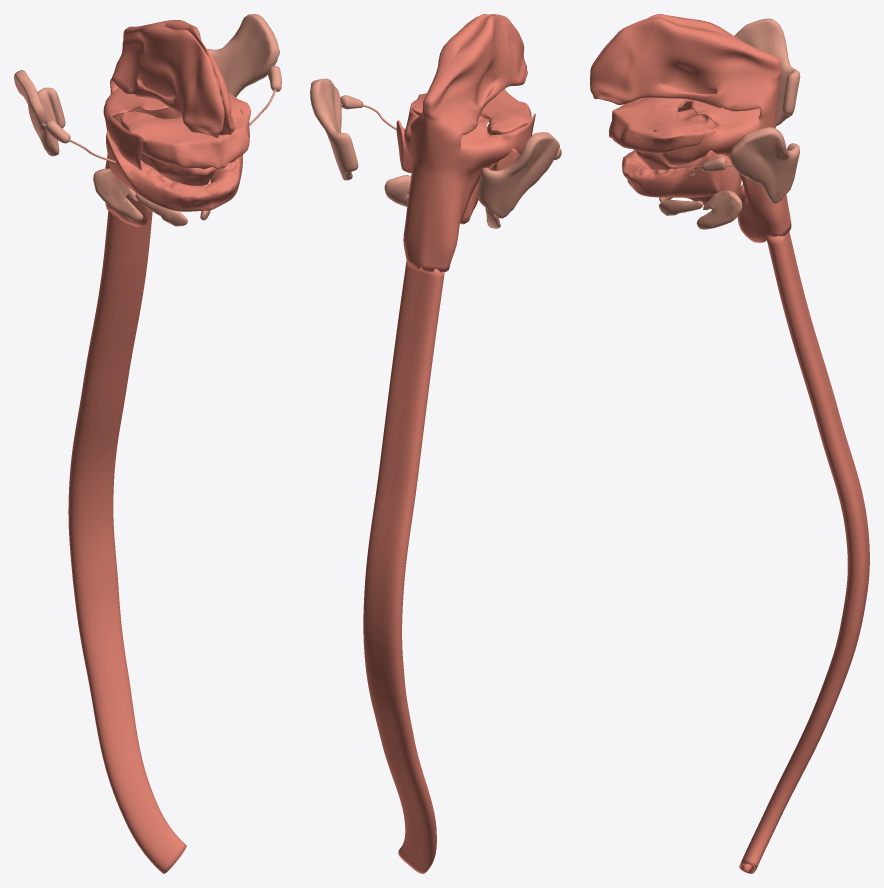
File: esofaguscol.fbx
3 renders of one model, left to right at view 1: azimuth 30°, elevation 25°; view 2: azimuth 150°, elevation 25°; view 3: azimuth 270°, elevation 25°, orthographic. The views are drawn at different scales.
Visible parts, largest first — view 1: Oesophagus, Soft palate, Gingiva, Parotid gland.l, Parotid gland.r, Submandibular gland.r, Tongue, Sublingual gland.r; view 2: Oesophagus, Soft palate, Parotid gland.r, Gingiva, Parotid gland.l, Submandibular gland.l; view 3: Soft palate, Oesophagus, Gingiva, Parotid gland.l, Parotid gland.r, Submandibular gland.l, Tongue.
Boxes of the visible parts, box(x1,y1,x2,y2) form: Oesophagus: box(68, 210, 186, 873); Soft palate: box(103, 20, 243, 227); Gingiva: box(106, 93, 251, 211); Parotid gland.l: box(207, 14, 279, 96); Parotid gland.r: box(14, 70, 65, 156); Submandibular gland.r: box(93, 168, 143, 221); Tongue: box(136, 153, 216, 193); Sublingual gland.r: box(135, 193, 187, 226); Oesophagus: box(363, 261, 444, 873); Soft palate: box(403, 14, 535, 272); Parotid gland.r: box(477, 132, 559, 218); Gingiva: box(396, 89, 531, 172); Parotid gland.l: box(310, 78, 358, 180); Submandibular gland.l: box(384, 175, 411, 206); Soft palate: box(590, 14, 791, 242); Oesophagus: box(739, 232, 869, 873); Gingiva: box(609, 97, 721, 197); Parotid gland.l: box(730, 127, 800, 203); Parotid gland.r: box(734, 18, 800, 126); Submandibular gland.l: box(696, 190, 742, 229); Tongue: box(634, 150, 741, 204).
Bounding box in the file's own units: 56.12 × 191 × 57.26.
